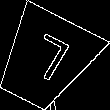L_SW: (17, 30, 73, 90)
